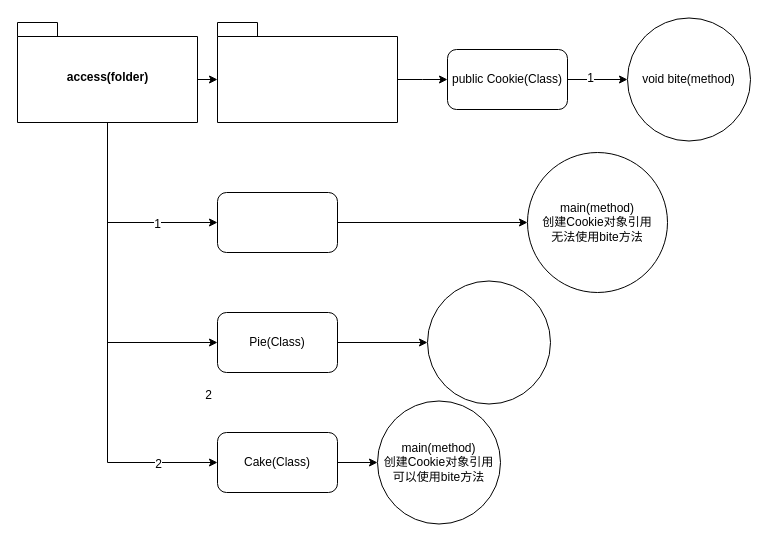
This 768x541 diagram has some shape labels left out. The box of each missing label's shape, as (x1, y1, x2, y2) in pixels:
dessert(package): (216, 22, 398, 122)
public Dinner(Class): (216, 192, 338, 252)
void f(method): (426, 280, 550, 404)
